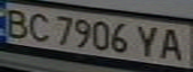0: (90, 18, 112, 52)
6: (109, 20, 136, 55)
7: (51, 12, 75, 47)
9: (69, 16, 93, 50)
A: (157, 26, 187, 62)
B: (0, 6, 33, 38)
C: (24, 10, 54, 43)
Y: (133, 22, 163, 58)
